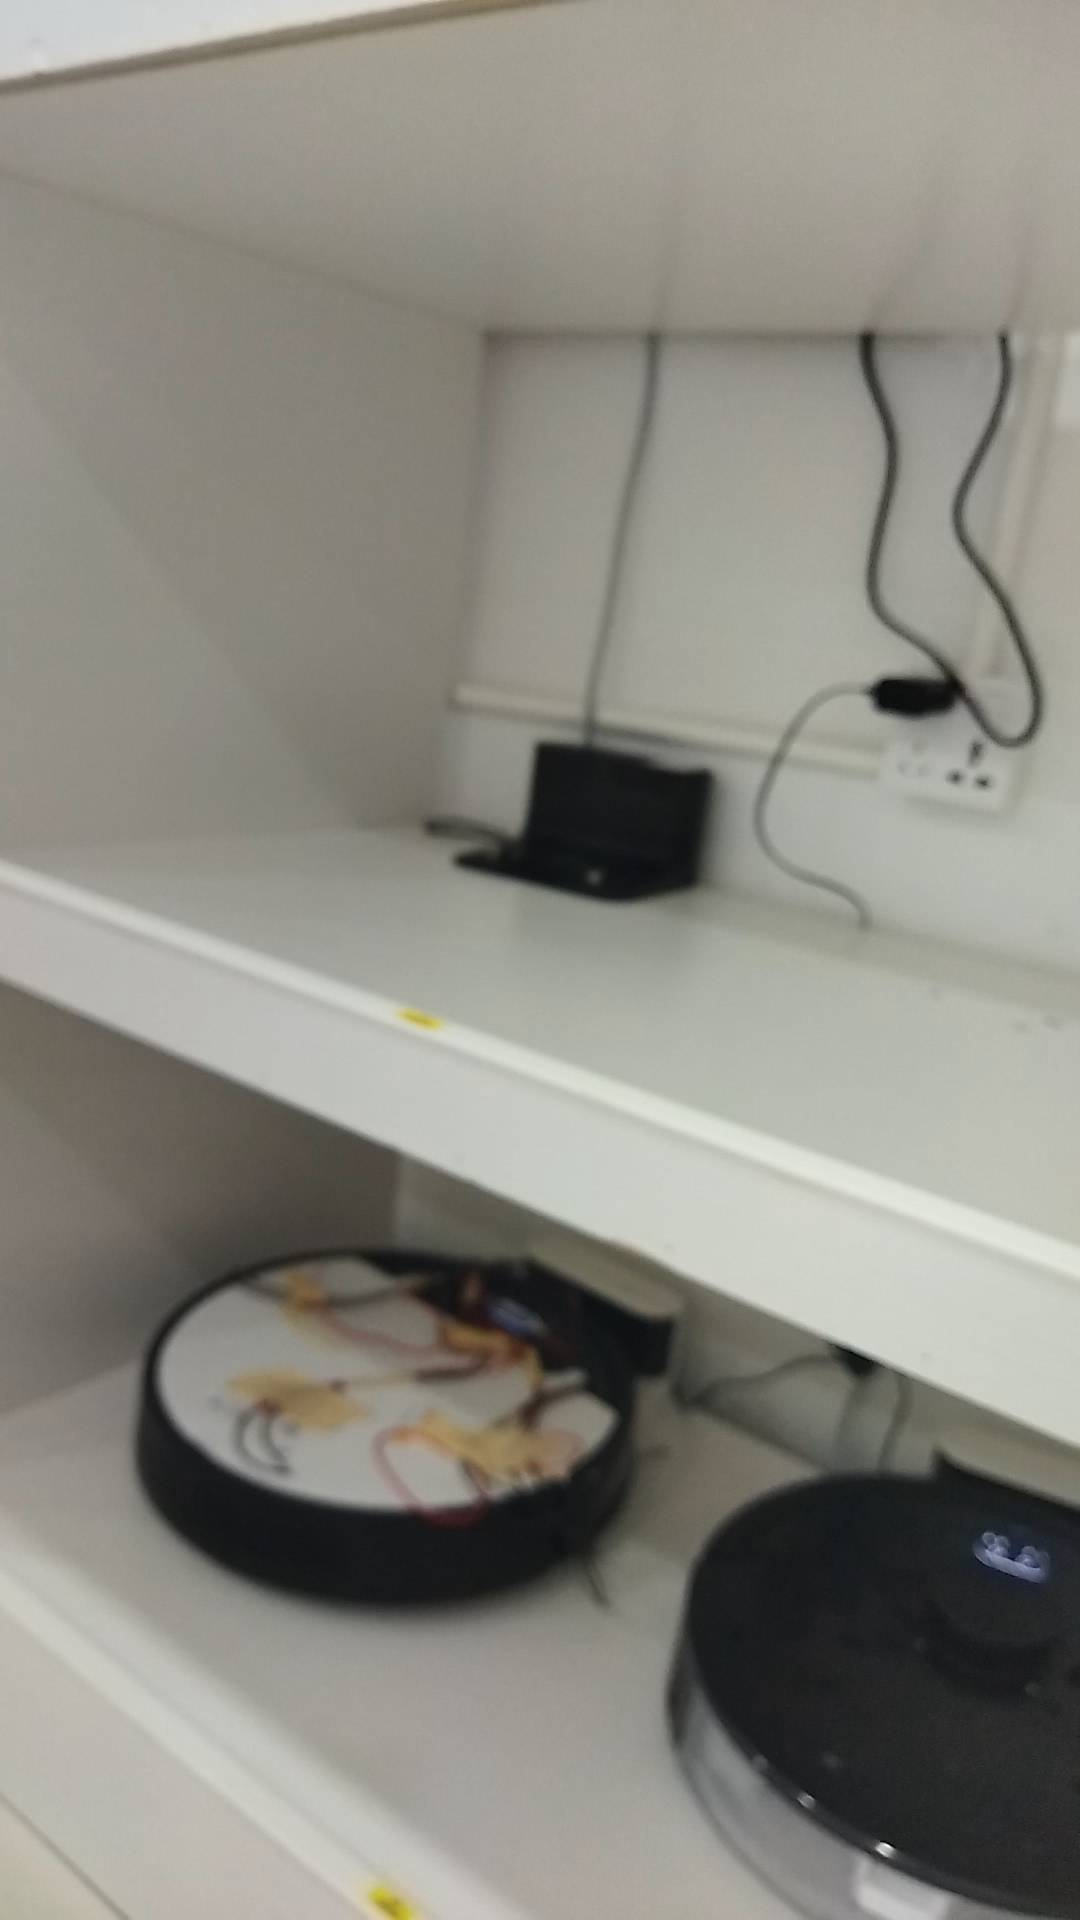recharge seat: (455, 736, 720, 906), (525, 1234, 684, 1461), (932, 1418, 1080, 1518)
